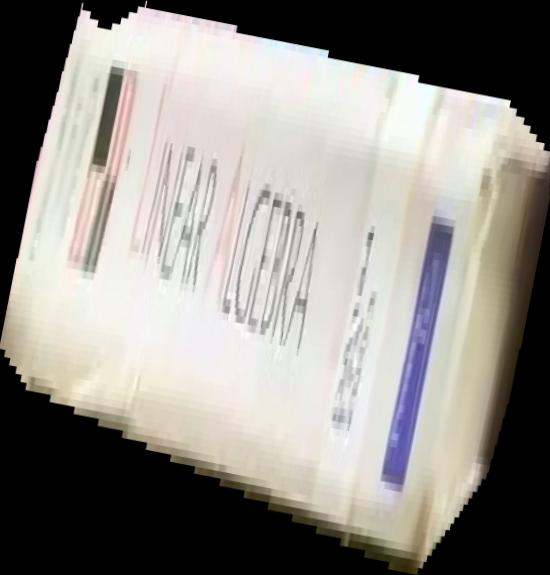flat: (1, 1, 550, 575)
